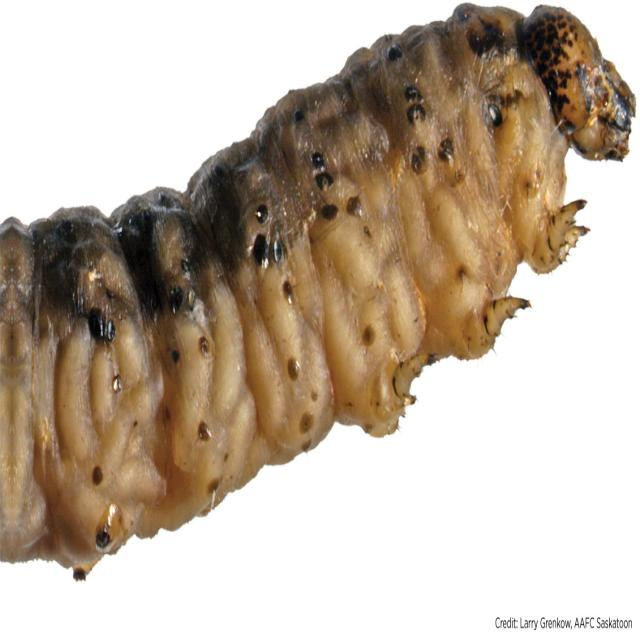worm: (2, 3, 637, 583)
